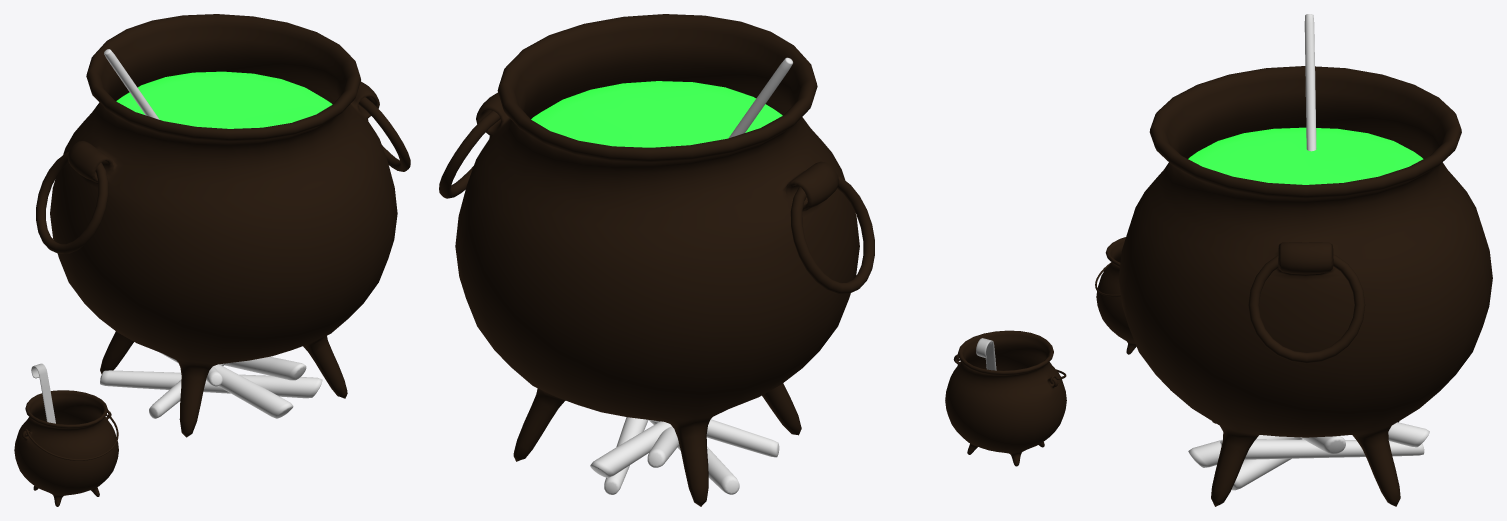
Rendered from Cauldron.fbx.
3 renders of one model, left to right at view 1: azimuth 30°, elevation 25°; view 2: azimuth 150°, elevation 25°; view 3: azimuth 270°, elevation 25°, orthographic. The views are drawn at different scales.
Visible parts, largest first — view 1: Cauldron_Big, Potion, Cauldron_Small, Firewood, Wooden Spoon, Ladle; view 2: Cauldron_Big, Cauldron_Small, Potion, Firewood, Wooden Spoon; view 3: Cauldron_Big, Potion, Firewood, Cauldron_Small, Wooden Spoon.
Part boxes in pixels (left/top/right/bottom): Cauldron_Big: left=36, top=14, right=410, bottom=437; Potion: left=116, top=71, right=332, bottom=128; Cauldron_Small: left=14, top=390, right=118, bottom=506; Firewood: left=100, top=352, right=322, bottom=418; Wooden Spoon: left=104, top=49, right=159, bottom=119; Ladle: left=31, top=363, right=55, bottom=423; Cauldron_Big: left=439, top=14, right=874, bottom=506; Cauldron_Small: left=945, top=330, right=1066, bottom=466; Potion: left=531, top=81, right=782, bottom=147; Firewood: left=590, top=417, right=779, bottom=494; Wooden Spoon: left=729, top=57, right=793, bottom=137; Cauldron_Big: left=1118, top=66, right=1492, bottom=506; Potion: left=1188, top=127, right=1423, bottom=184; Firewood: left=1188, top=422, right=1429, bottom=490; Cauldron_Small: left=1096, top=237, right=1136, bottom=354; Wooden Spoon: left=1304, top=14, right=1316, bottom=151.
Size of the model in its own units: 277 by 215 by 198.
